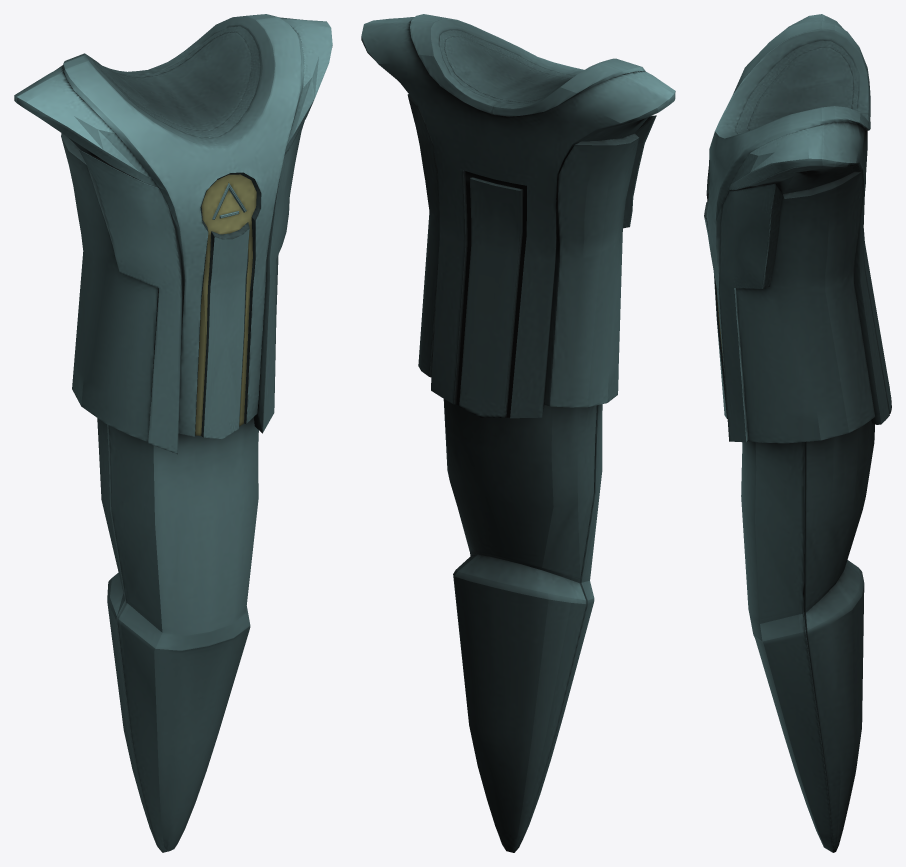
Rendered from just_body.obj.
3 renders of one model, left to right at view 1: azimuth 30°, elevation 25°; view 2: azimuth 150°, elevation 25°; view 3: azimuth 270°, elevation 25°, orthographic. The views are drawn at different scales.
Parts seen in each view (by area): view 1: just_body.obj; view 2: just_body.obj; view 3: just_body.obj.
Part boxes in pixels (bbox=[...]): just_body.obj: bbox=[14, 14, 332, 852]; just_body.obj: bbox=[361, 14, 675, 852]; just_body.obj: bbox=[704, 14, 891, 852].
Size of the model in its own units: 0.5232 by 1.32 by 0.2863.
Materials: 1 (1 with a texture image).
